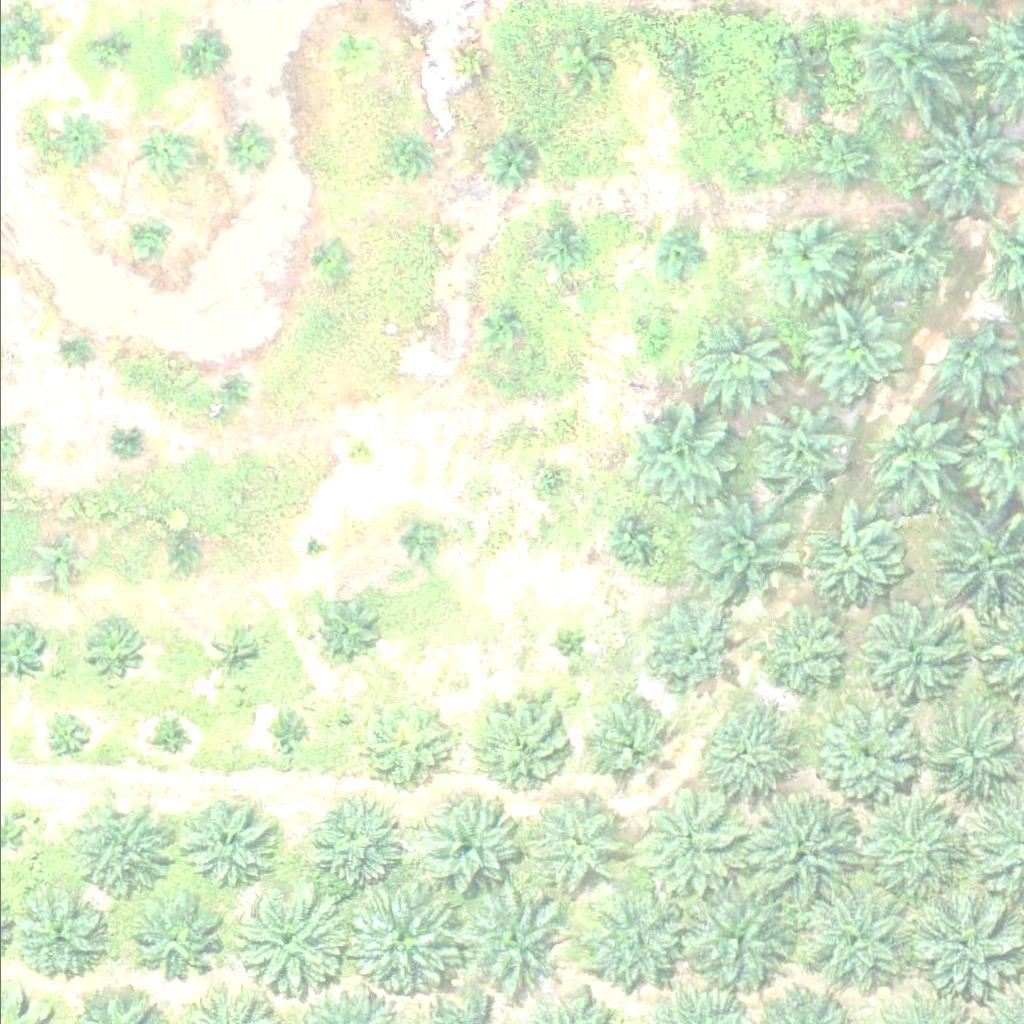Kelapa_Sawit: (738, 786, 864, 911), (845, 783, 971, 908), (894, 884, 1020, 1009), (674, 877, 800, 1002), (338, 875, 463, 1000), (219, 875, 344, 1000), (906, 106, 1019, 219), (678, 497, 791, 610), (794, 882, 907, 995), (573, 884, 686, 997), (455, 881, 568, 994), (854, 1, 967, 113), (628, 786, 741, 898), (866, 404, 967, 504), (797, 299, 898, 399), (860, 203, 961, 303), (799, 505, 900, 605), (851, 602, 952, 702), (813, 706, 914, 806), (688, 702, 789, 802), (534, 788, 635, 888), (417, 799, 518, 899), (298, 796, 399, 896), (170, 793, 271, 893), (579, 691, 680, 791), (473, 693, 574, 793), (352, 698, 453, 798), (625, 404, 726, 504), (68, 801, 169, 901), (686, 307, 786, 407), (925, 319, 1013, 407), (755, 406, 843, 494), (921, 709, 1009, 797), (15, 893, 103, 981), (128, 900, 216, 988), (757, 217, 846, 304), (646, 606, 735, 693), (754, 605, 842, 692), (309, 593, 372, 656), (815, 133, 878, 195), (558, 37, 609, 87), (478, 134, 529, 184), (321, 29, 372, 79), (220, 124, 271, 174), (607, 512, 658, 562), (91, 623, 142, 673), (34, 539, 85, 589), (449, 42, 500, 92), (182, 22, 232, 72), (137, 129, 187, 179), (51, 115, 101, 165), (770, 44, 820, 94), (45, 712, 95, 762), (534, 218, 584, 268), (657, 231, 707, 281), (162, 529, 200, 567), (634, 321, 672, 359), (483, 312, 521, 350), (527, 464, 565, 502), (546, 626, 584, 664), (337, 432, 375, 470), (92, 34, 130, 72), (268, 723, 306, 761), (125, 222, 163, 259), (151, 717, 189, 754), (218, 635, 256, 672), (108, 429, 145, 467), (667, 50, 705, 87), (722, 155, 760, 192), (398, 516, 436, 553), (437, 213, 475, 250), (388, 139, 425, 176), (60, 327, 97, 364), (315, 244, 352, 281), (217, 375, 254, 412), (301, 535, 326, 560)
